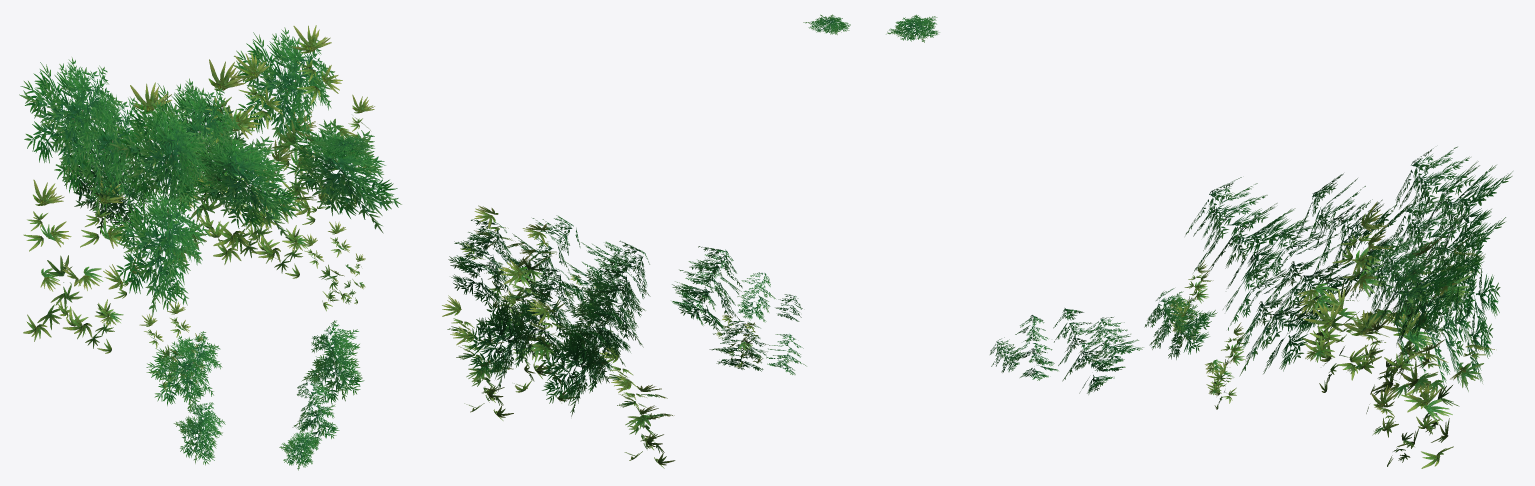
Rendered from zhuzi.obj.
3 renders of one model, left to right at view 1: azimuth 30°, elevation 25°; view 2: azimuth 150°, elevation 25°; view 3: azimuth 270°, elevation 25°, orthographic. The views are drawn at different scales.
Parts seen in each view (by area): view 1: zhuzi; view 2: zhuzi; view 3: zhuzi.
Boxes of the visible parts, x1,y1,x2,y2 form: zhuzi: (19,25,401,470); zhuzi: (442,14,850,468); zhuzi: (886,14,1512,468).
Bounding box in the file's own units: 49.17 × 57.5 × 88.56.
